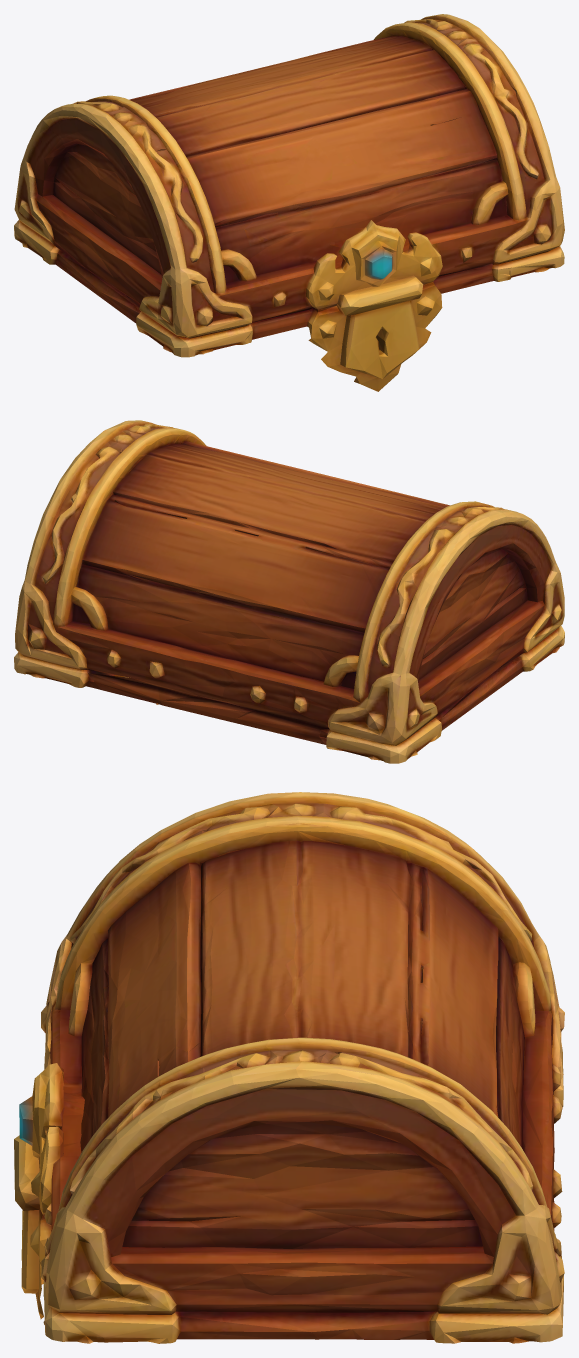
Rendered from chest-lid.glb.
3 renders of one model, top to bottom at view 1: azimuth 30°, elevation 25°; view 2: azimuth 150°, elevation 25°; view 3: azimuth 270°, elevation 25°, orthographic. The views are drawn at different scales.
Parts seen in each view (by area): view 1: source_surface_0; view 2: source_surface_0; view 3: source_surface_0.
Boxes of the visible parts, x1=… form: source_surface_0: x1=14, y1=14, x2=564, y2=391; source_surface_0: x1=14, y1=420, x2=564, y2=763; source_surface_0: x1=14, y1=792, x2=564, y2=1343.
Size of the model in its own units: 0.2975 by 0.184 by 0.236.
1 material, 1 textured.
